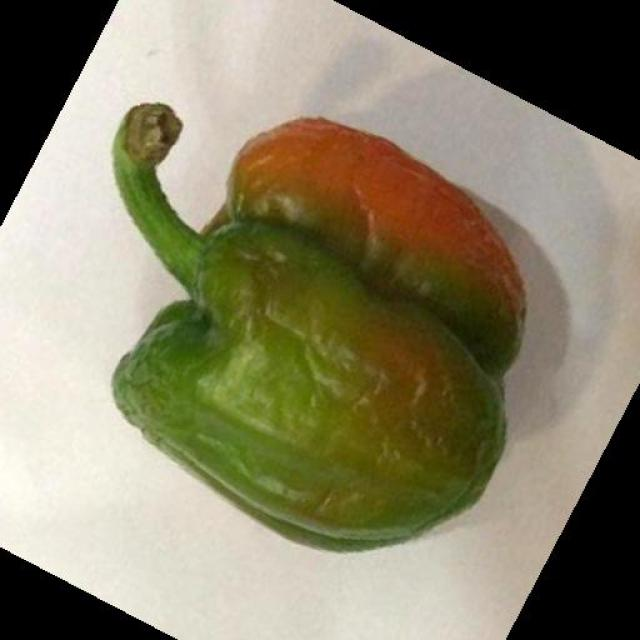Stale_Capsicum: (86, 94, 532, 588)
